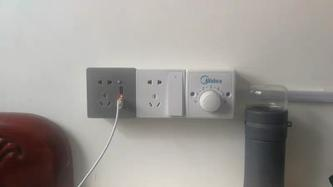switch: (168, 81, 182, 115)
